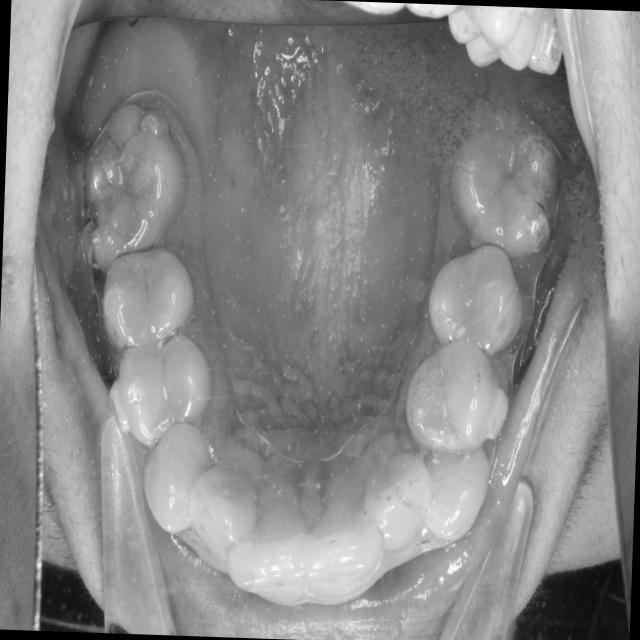tooth: (69, 95, 209, 281), (434, 94, 574, 272), (206, 453, 329, 625), (91, 324, 235, 458), (420, 235, 542, 392), (392, 338, 526, 475), (121, 412, 233, 561), (175, 450, 281, 603), (89, 230, 204, 364), (354, 439, 446, 568), (299, 484, 396, 601), (417, 443, 498, 567)
